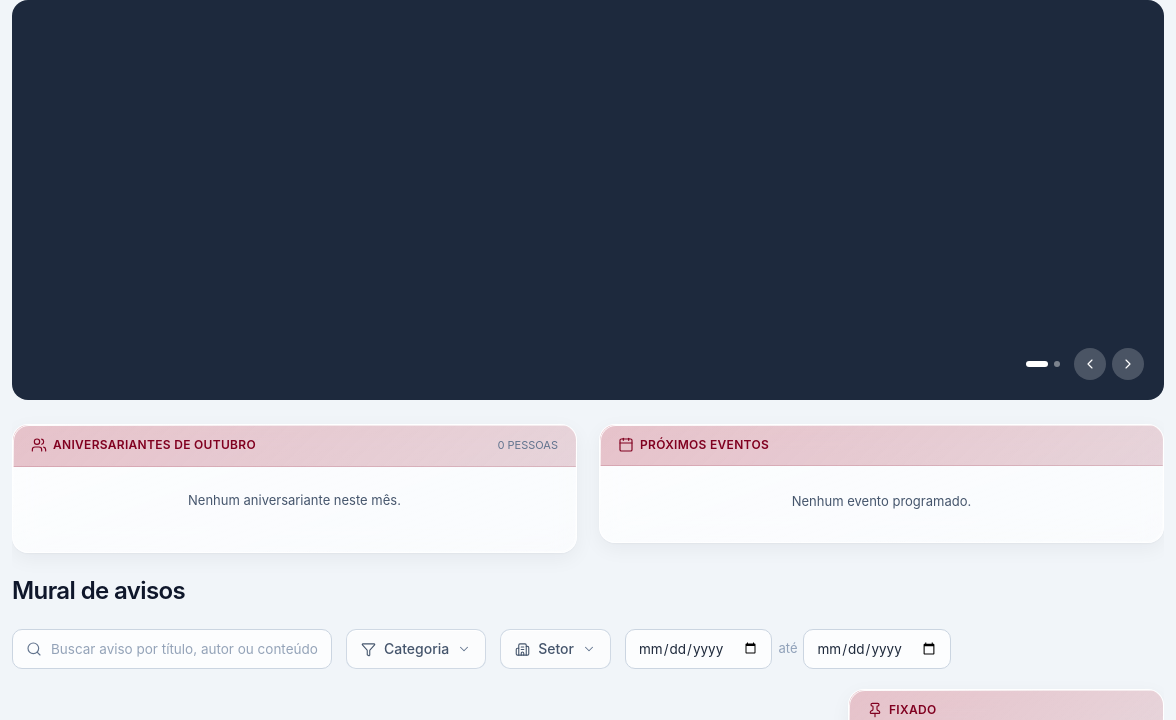
Test: MUR-11 — filtro por data de publicação › restringe a lista ao período entre "de" e "até", inclusive
Type "2026-10-10" into the date field named "Publicado a partir de" at (699,649), box [625, 629, 772, 669]
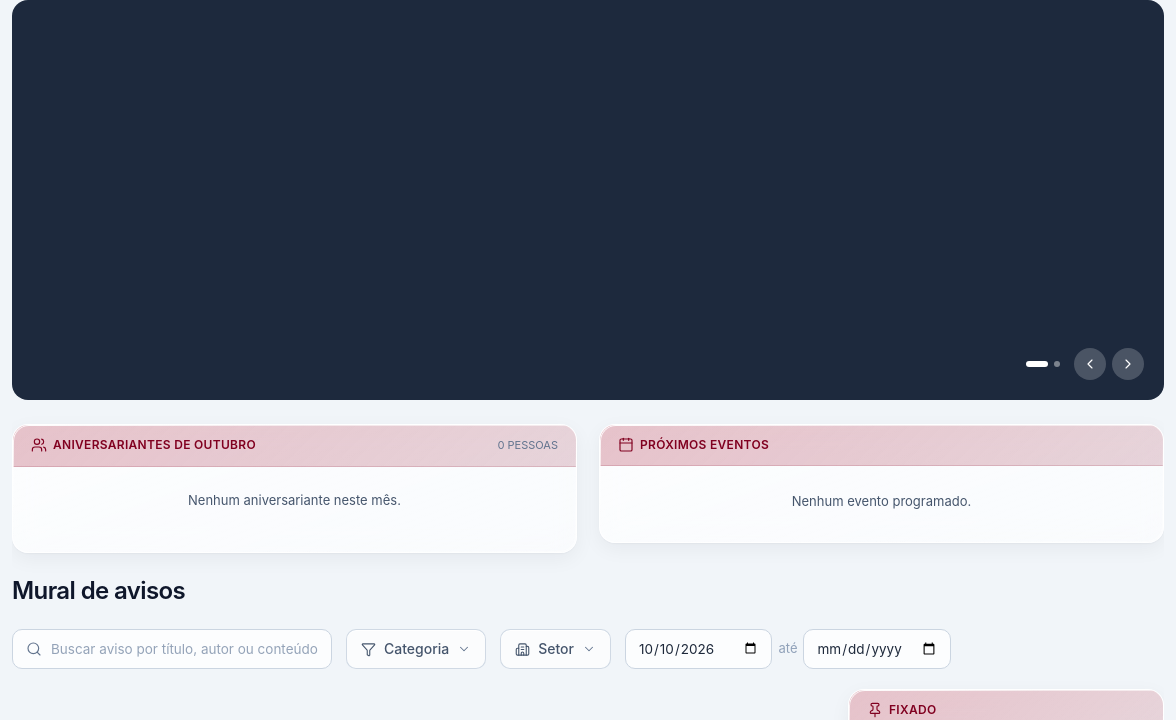
Type "2026-10-10" into the date field named "Publicado até" at (877,649), box [804, 629, 951, 669]
(page scrolled)
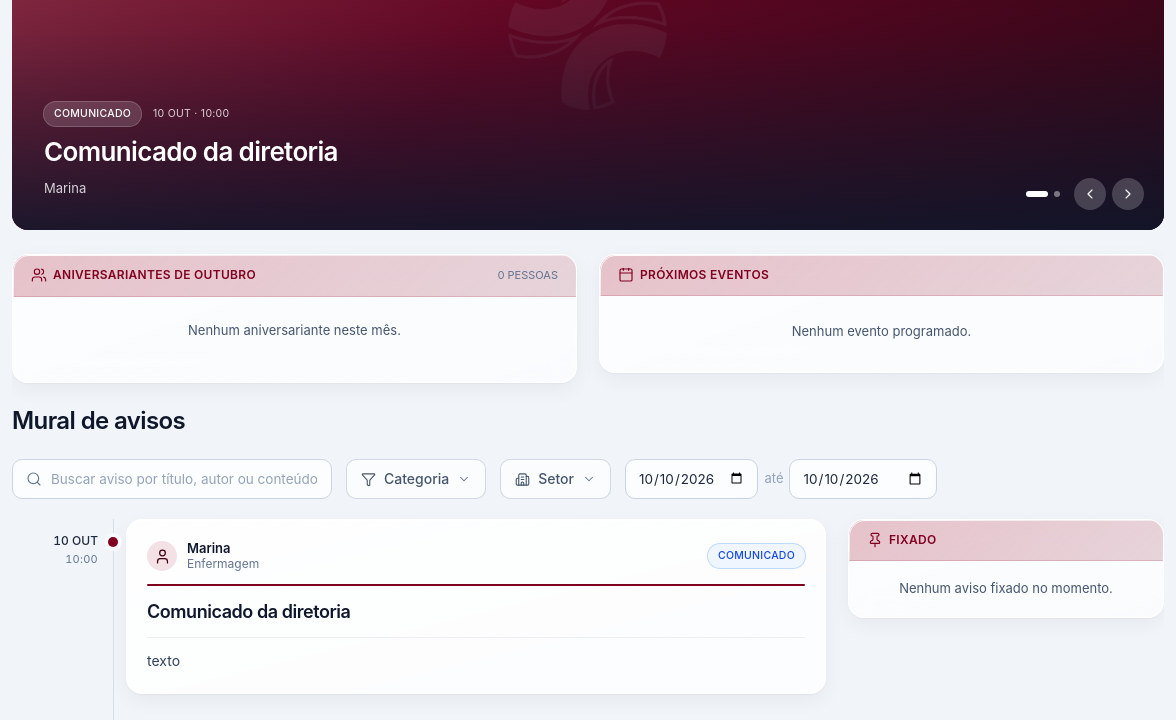
Check: the heading "Comunicado da diretoria" below "Enfermagem" is shown, box [147, 601, 350, 622]
